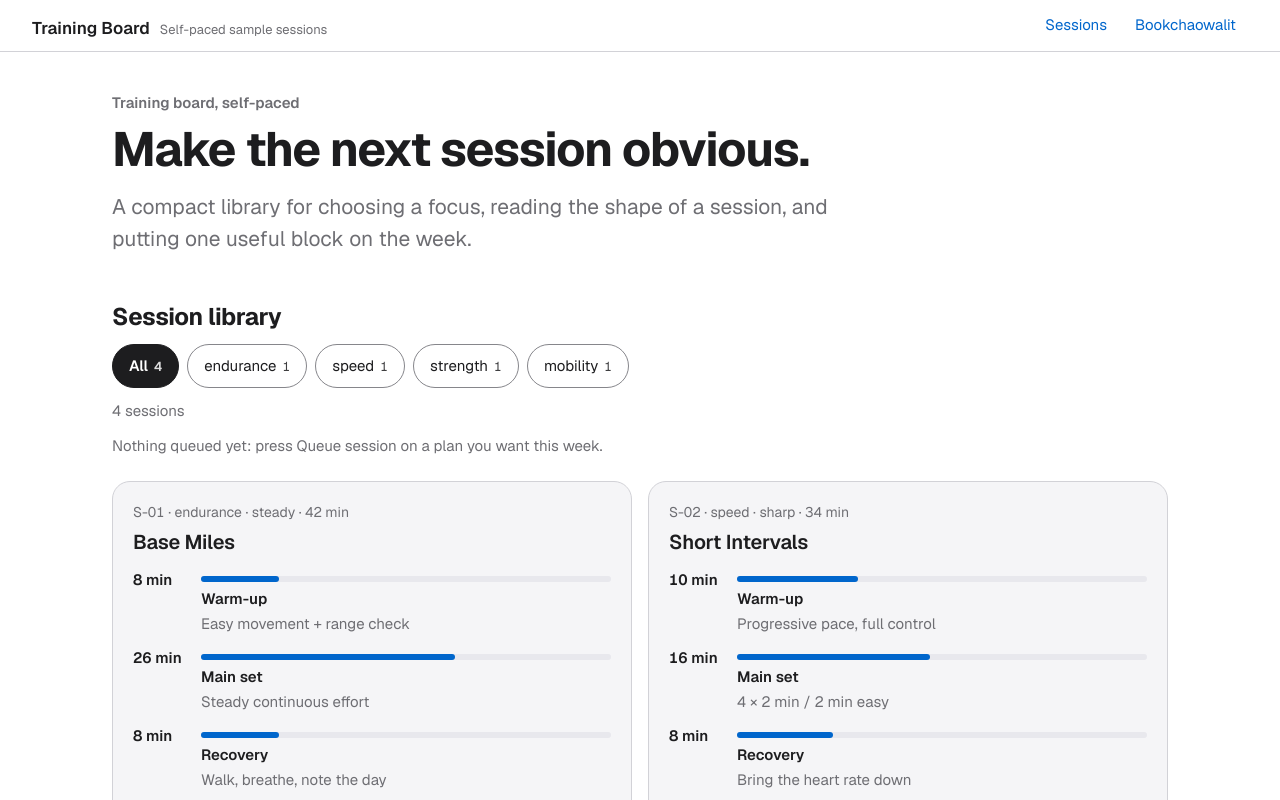
it: home page (mounted) › filters by focus with a pressed chip and a count
Click the button "mobility 1". click: (578, 366)
box: [527, 344, 629, 388]
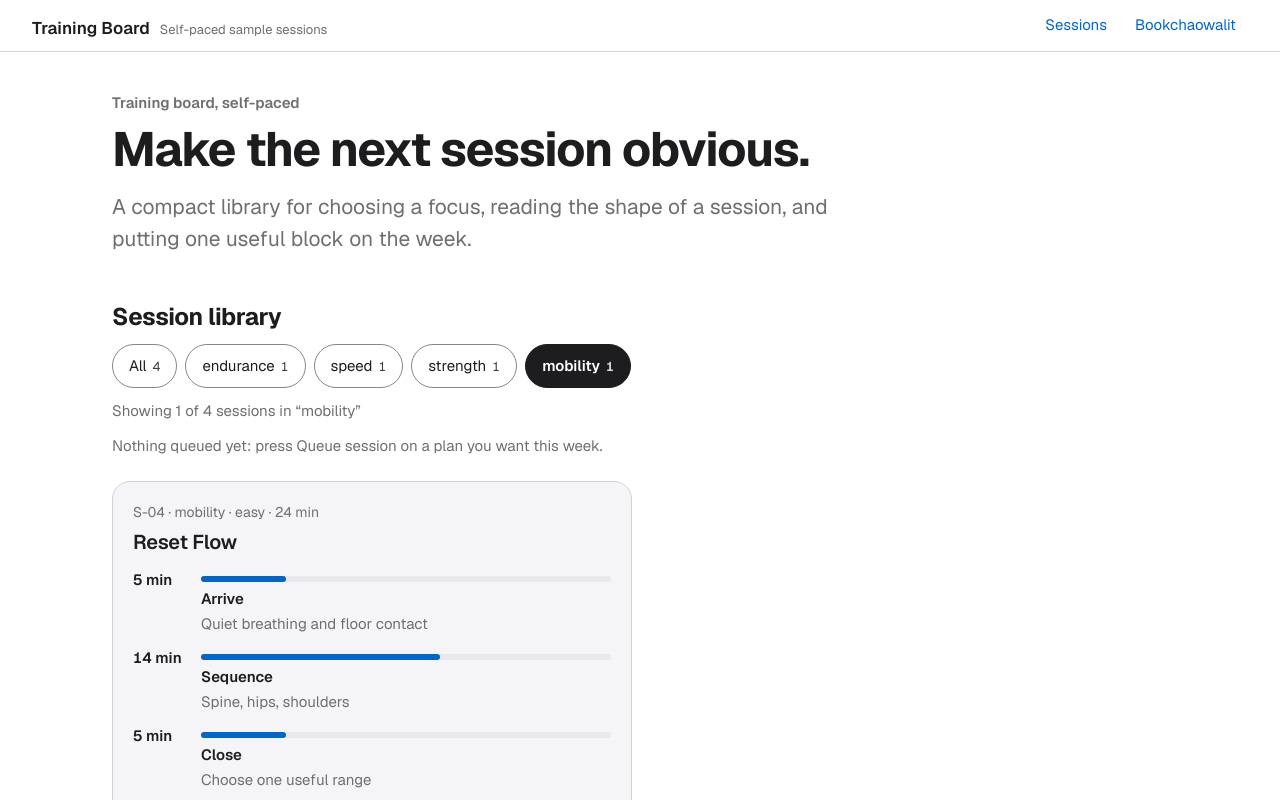
Expected: the message with class "rs-count" reads "Showing 1 of 4 sessions in “mobility”", [112, 401, 361, 420]
